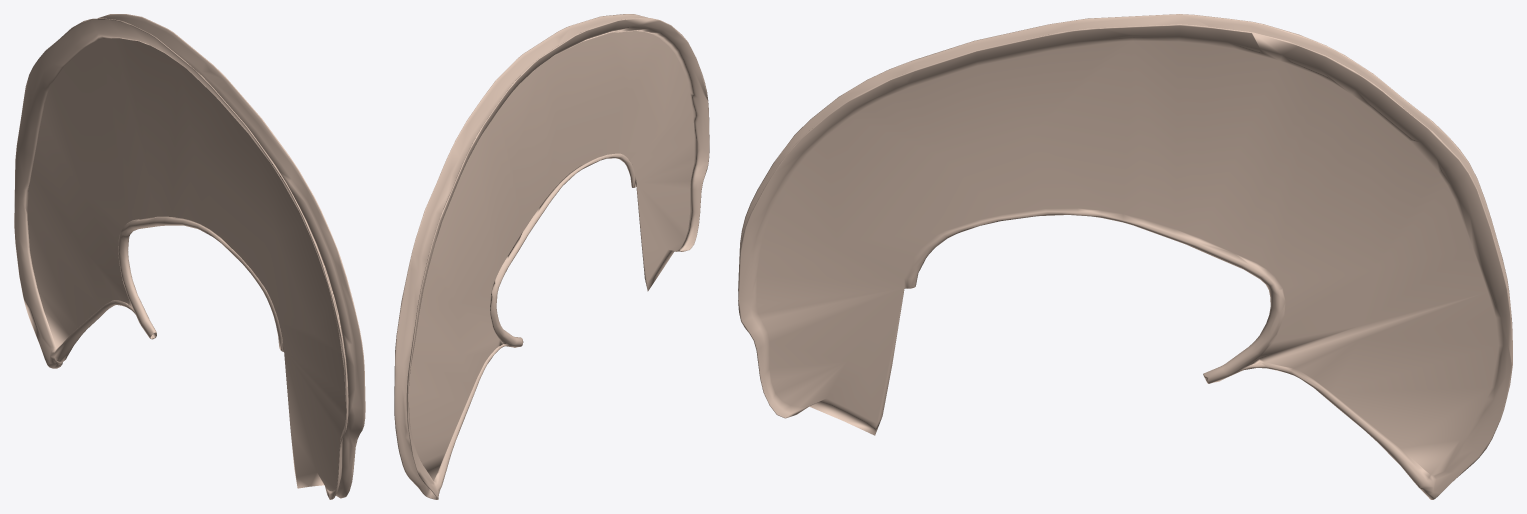
The model's file is nervous_central.head.glb.
The picture shows the model from 3 angles, left to right: view 1: azimuth 30°, elevation 25°; view 2: azimuth 150°, elevation 25°; view 3: azimuth 270°, elevation 25°; orthographic projection. The views are drawn at different scales.
Parts seen in each view (by area): view 1: falx_cerebri; view 2: falx_cerebri; view 3: falx_cerebri.
Part boxes in pixels (left/top/right/bottom): falx_cerebri: left=14, top=14, right=365, bottom=499; falx_cerebri: left=394, top=14, right=709, bottom=499; falx_cerebri: left=738, top=14, right=1512, bottom=499.
Size of the model in its own units: 0.00689 by 0.1231 by 0.1803.
